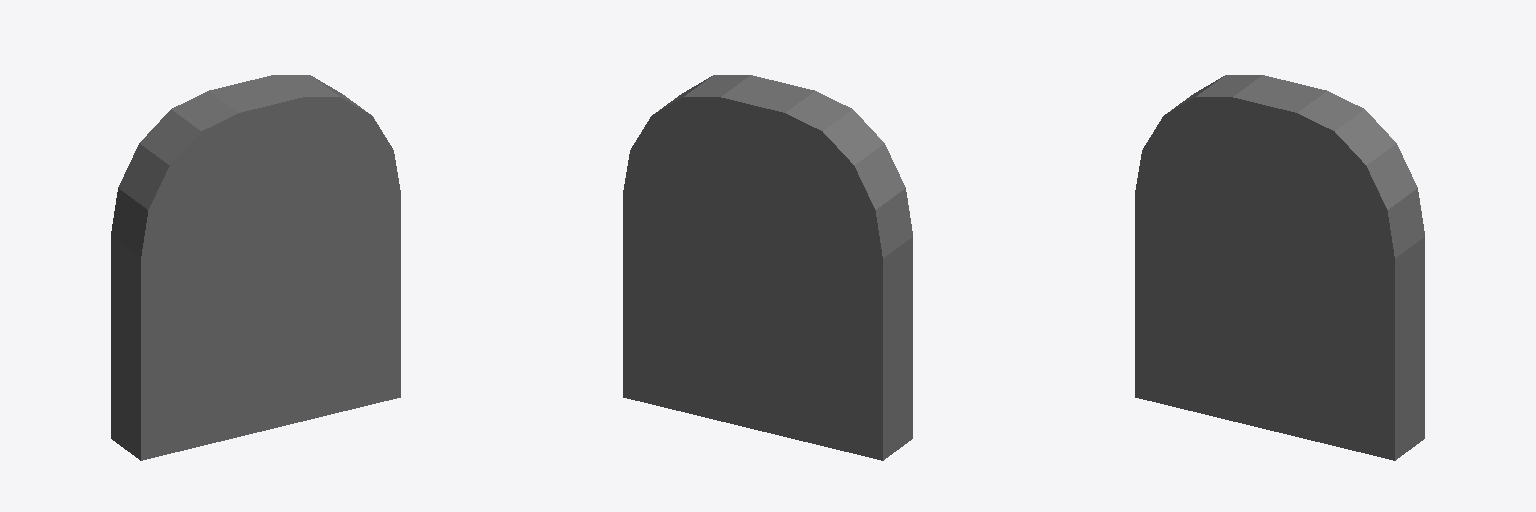
3 renders of one model, left to right at view 1: azimuth 30°, elevation 25°; view 2: azimuth 150°, elevation 25°; view 3: azimuth 330°, elevation 25°, orthographic.
Visible parts, largest first — view 1: Cube.001_Cube.002; view 2: Cube.001_Cube.002; view 3: Cube.001_Cube.002.
Boxes of the visible parts, x1,y1,x2,y2 form: Cube.001_Cube.002: [111, 75, 400, 460]; Cube.001_Cube.002: [623, 75, 912, 460]; Cube.001_Cube.002: [1135, 75, 1424, 460].
Size of the model in its own units: 9.87 by 11.74 by 2.
Materials: 1 (1 with a texture image).